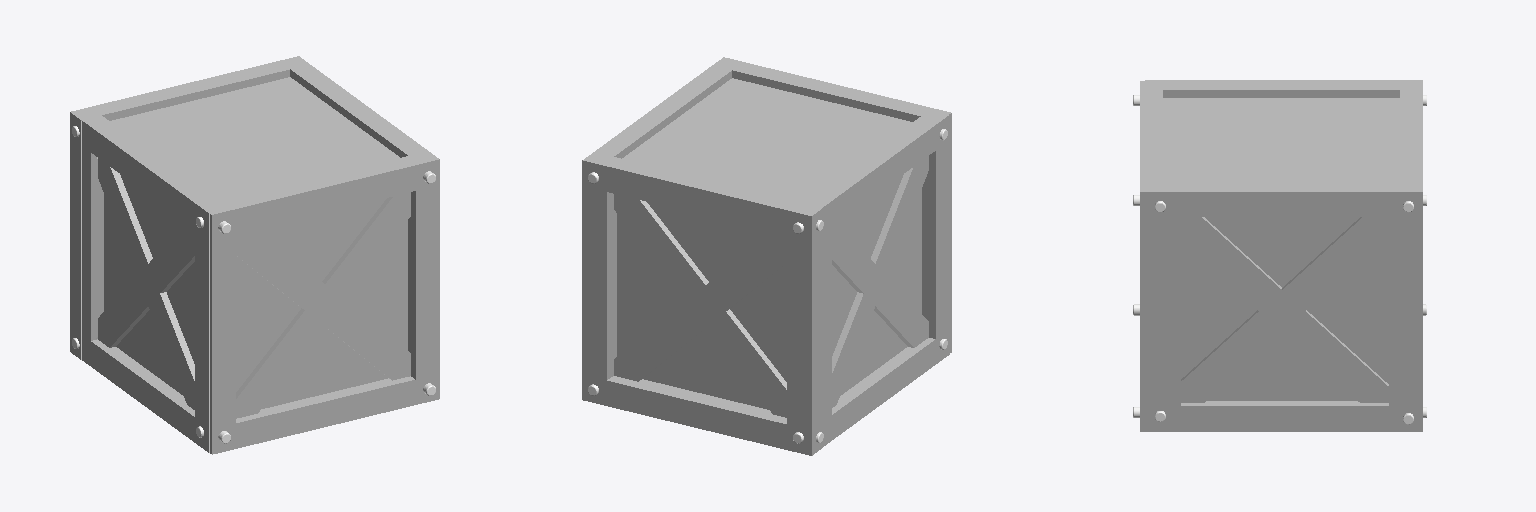
File: TNT CRATE.obj
3 views of the same model, side by side, from view 1: azimuth 30°, elevation 25°; view 2: azimuth 150°, elevation 25°; view 3: azimuth 270°, elevation 25° (orthographic).
Parts seen in each view (by area): view 1: Cubo_9, Cilindro_15.1; view 2: Cubo_9, Cilindro_15.1; view 3: Cubo_9, Cilindro_15.1.
Part boxes in pixels (x1,y1,x2,y2): Cubo_9: (70, 56, 439, 454); Cilindro_15.1: (72, 126, 435, 443); Cubo_9: (582, 57, 951, 455); Cilindro_15.1: (588, 129, 947, 443); Cubo_9: (1140, 80, 1422, 431); Cilindro_15.1: (1133, 95, 1426, 424).
Size of the model in its own units: 236 by 230 by 255.